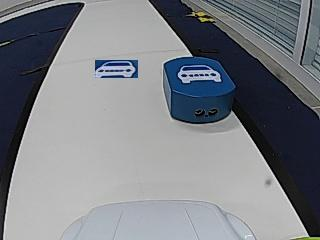safety: (177, 64, 223, 83)
